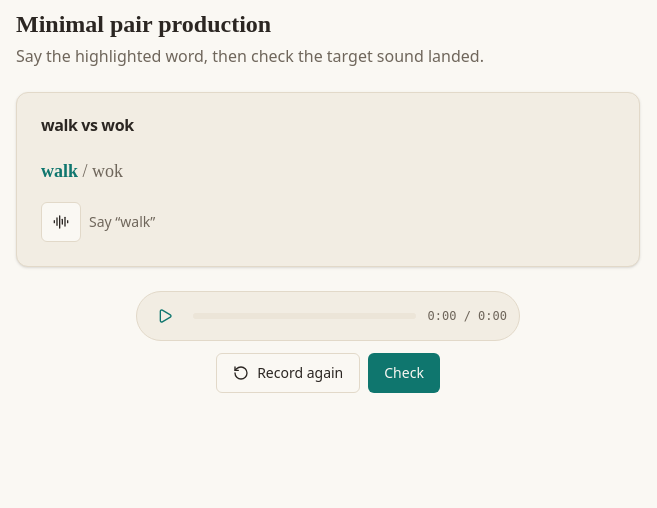
Scenario: ProductionDrill › should show a pass verdict when the target phoneme is clean
The image size is (657, 508).
Click the button "Check" at x=404, y=373, box [368, 353, 440, 393]
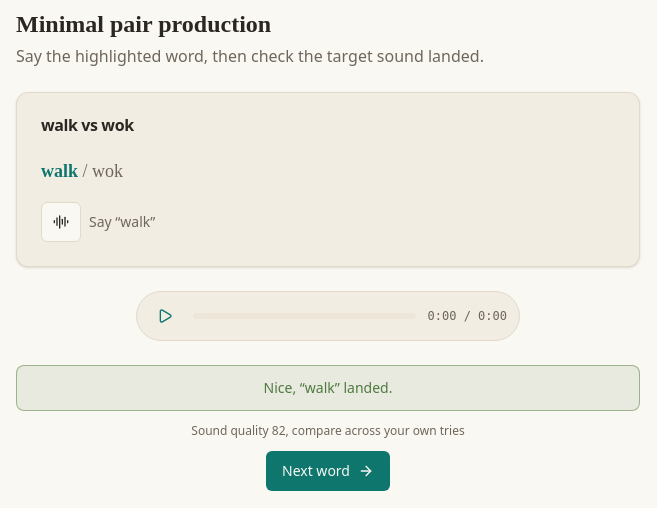
Expected: the message shows "landed", [335, 378, 392, 397]
Expected: the text "Sound quality 82, compare across your own tries" is shown, [191, 423, 465, 439]
